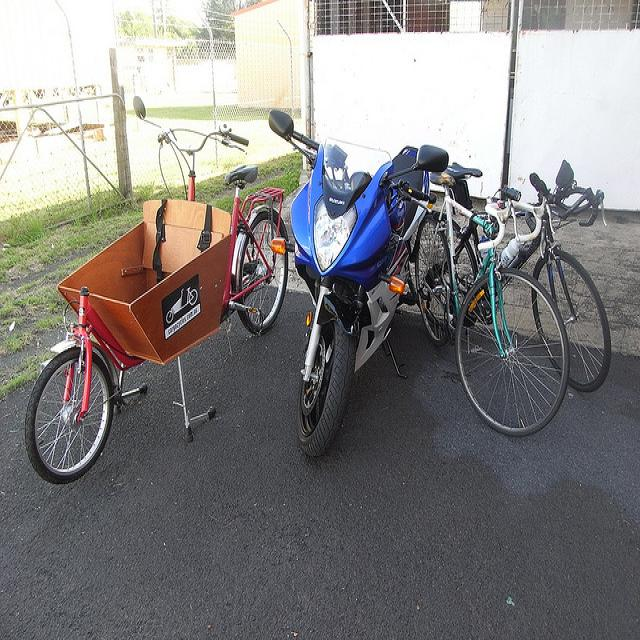motor: (269, 106, 450, 463)
